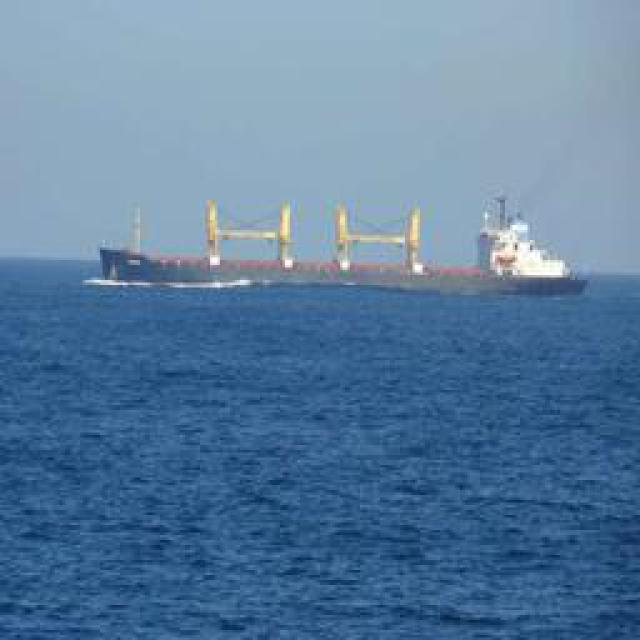Ship: (87, 195, 600, 295)
